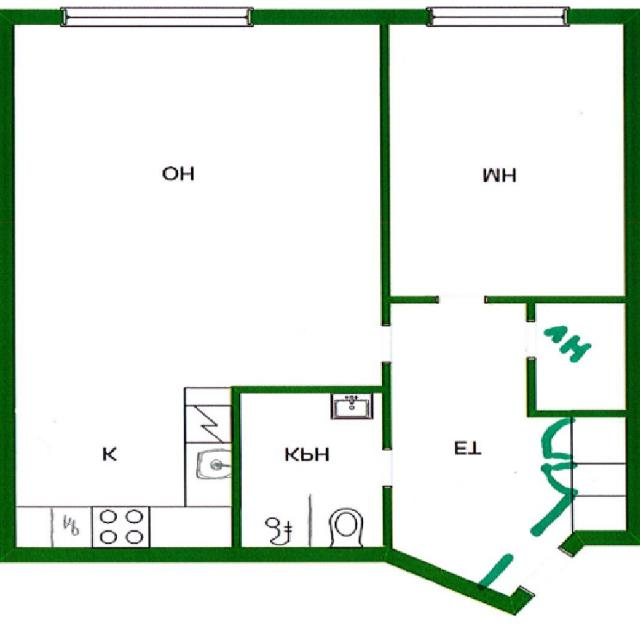door: (534, 463, 578, 492), (534, 427, 578, 455)
